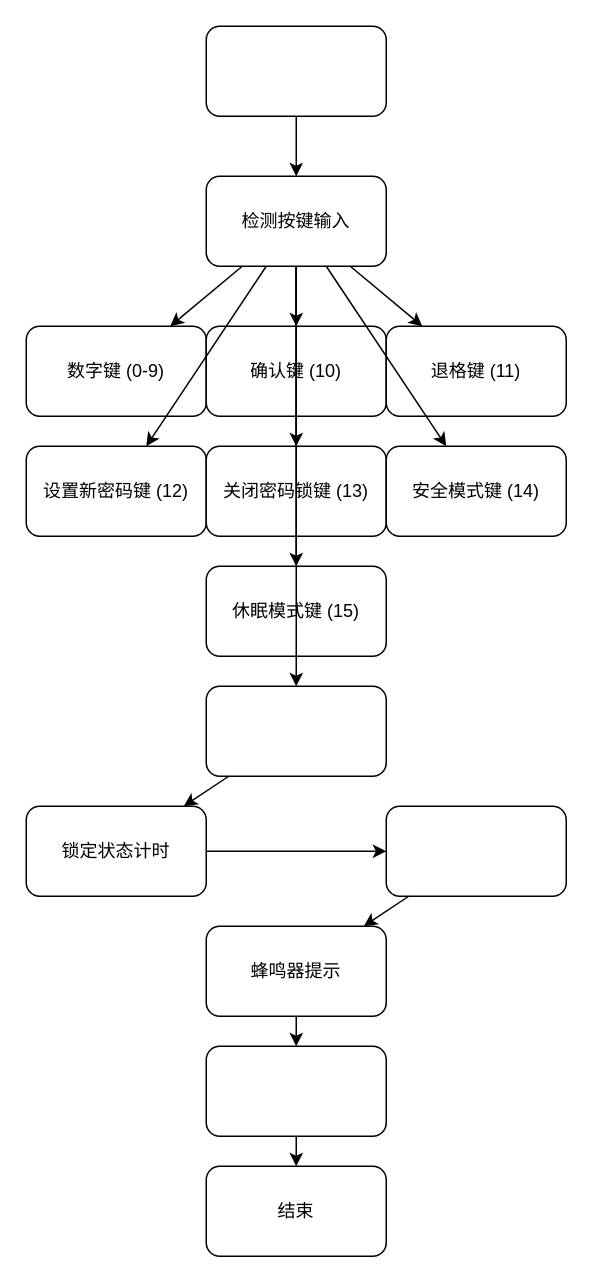
Some shapes in this 593 by 1283 pixel diagram are drawn without their labels. The shapes that lost their labels are listed below. From the top down, each one's centre as x and y in pixels, then its label:
(x=295, y=70): 初始化
(x=295, y=730): 定时器中断
(x=475, y=850): 解锁系统
(x=295, y=1090): 休眠模式
